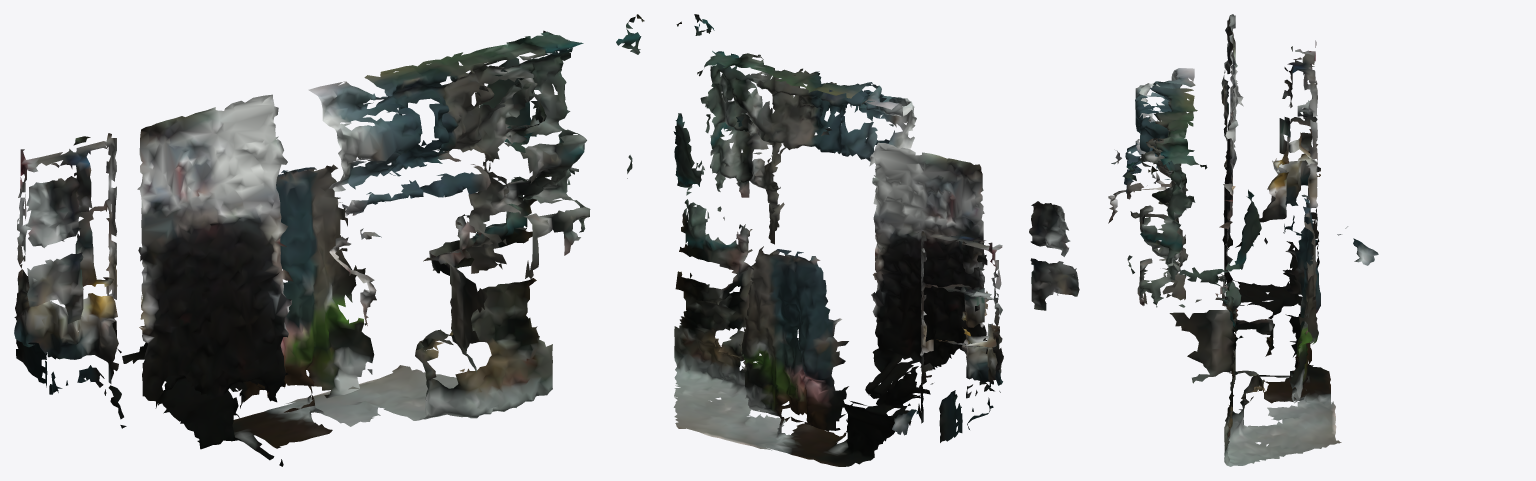
3 views of the same model, side by side, from view 1: azimuth 30°, elevation 25°; view 2: azimuth 150°, elevation 25°; view 3: azimuth 270°, elevation 25° (orthographic). The views are drawn at different scales.
Size of the model in its own units: 2.98 by 2.13 by 2.41.
